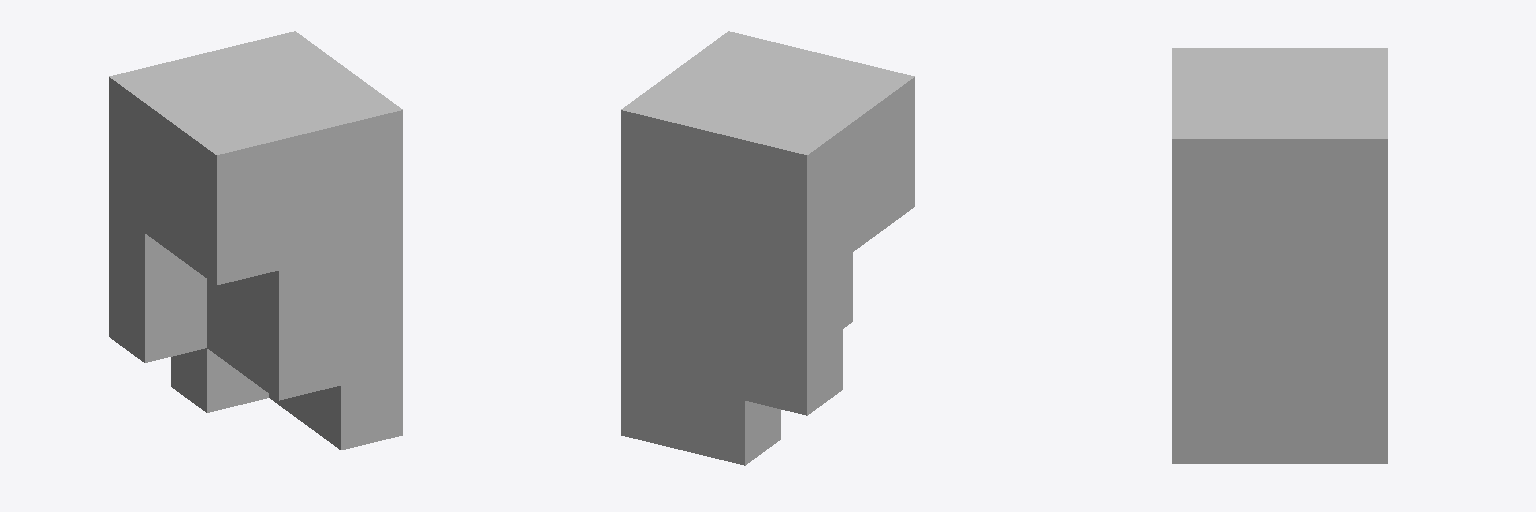
The model's file is hand.obj.
The picture shows the model from 3 angles: view 1: azimuth 30°, elevation 25°; view 2: azimuth 150°, elevation 25°; view 3: azimuth 270°, elevation 25°; orthographic projection.
Parts seen in each view (by area): view 1: object 1; view 2: object 1; view 3: object 1.
Part boxes in pixels (bbox=[...]): object 1: bbox=[109, 31, 402, 449]; object 1: bbox=[621, 31, 914, 465]; object 1: bbox=[1172, 48, 1387, 463].
Bounding box in the file's own units: 0.3 × 0.5 × 0.3.